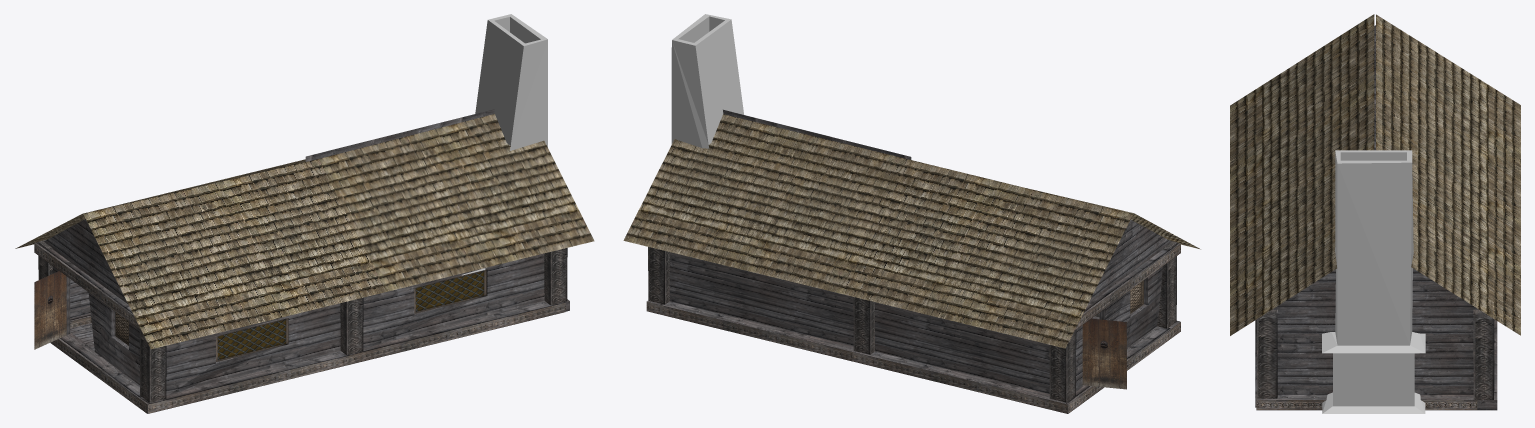
File: v3_house7_LOD2.dae
3 renders of one model, left to right at view 1: azimuth 30°, elevation 25°; view 2: azimuth 150°, elevation 25°; view 3: azimuth 270°, elevation 25°, orthographic. The views are drawn at different scales.
Parts seen in each view (by area): view 1: roof_01, WoodPlanks, WoodPlanks_ornaments, DefaultLib1.Material, windows2_c, dorwindow_set; view 2: roof_01, WoodPlanks, WoodPlanks_ornaments, DefaultLib1.Material, dorwindow_set; view 3: roof_01, DefaultLib1.Material, WoodPlanks, WoodPlanks_ornaments.
Part boxes in pixels (x1,y1,x2,y2): roof_01: (15,114,594,349); WoodPlanks: (44,109,544,394); WoodPlanks_ornaments: (34,239,569,413); DefaultLib1.Material: (462,14,547,275); windows2_c: (216,269,487,361); dorwindow_set: (34,271,128,349); roof_01: (623,114,1200,348); WoodPlanks: (669,109,1171,393); WoodPlanks_ornaments: (646,240,1180,413); DefaultLib1.Material: (671,14,743,148); dorwindow_set: (1082,280,1143,389); roof_01: (1230,14,1520,335); DefaultLib1.Material: (1322,150,1425,413); WoodPlanks: (1272,25,1478,394); WoodPlanks_ornaments: (1255,100,1497,410).
Size of the model in its own units: 19.53 by 9.38 by 9.69.
